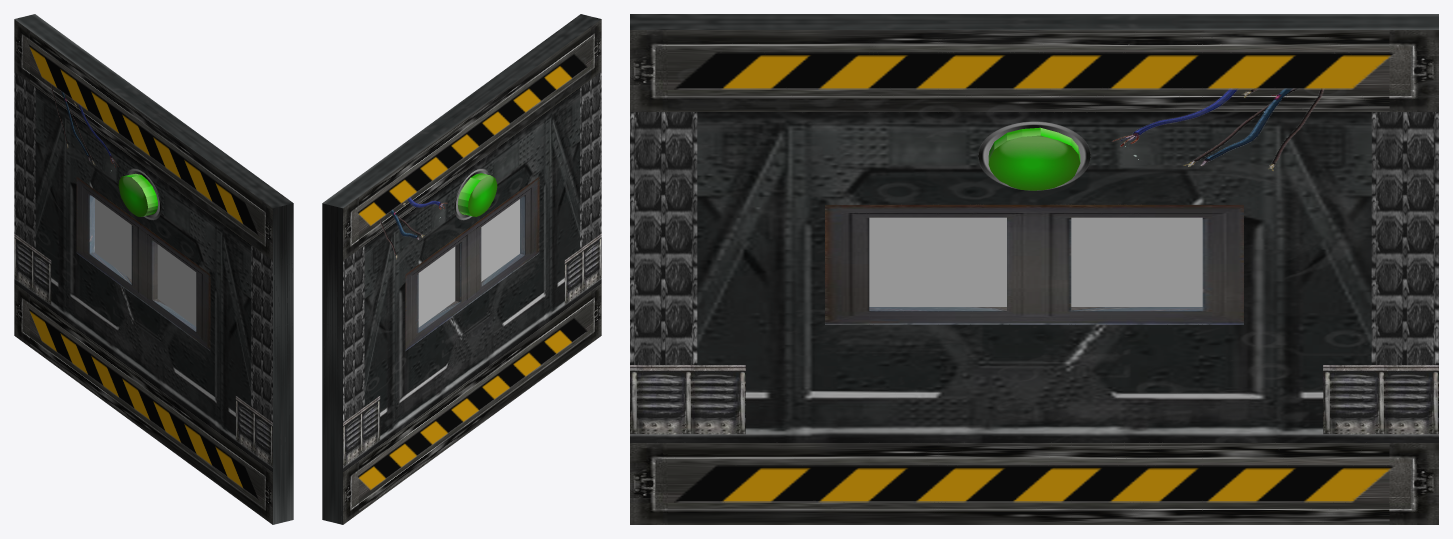
File: door_green.glb
The picture shows the model from 3 angles, left to right: view 1: azimuth 30°, elevation 25°; view 2: azimuth 150°, elevation 25°; view 3: azimuth 270°, elevation 25°; orthographic projection. The views are drawn at different scales.
Visible parts, largest first — view 1: Cube.001; view 2: Cube.001; view 3: Cube.001.
Boxes of the visible parts, x1,y1,x2,y2 form: Cube.001: [14, 14, 293, 524]; Cube.001: [322, 14, 601, 524]; Cube.001: [630, 14, 1438, 524].
Size of the model in its own units: 0.919 by 6.72 by 9.95.
Materials: 2 (1 with a texture image).
